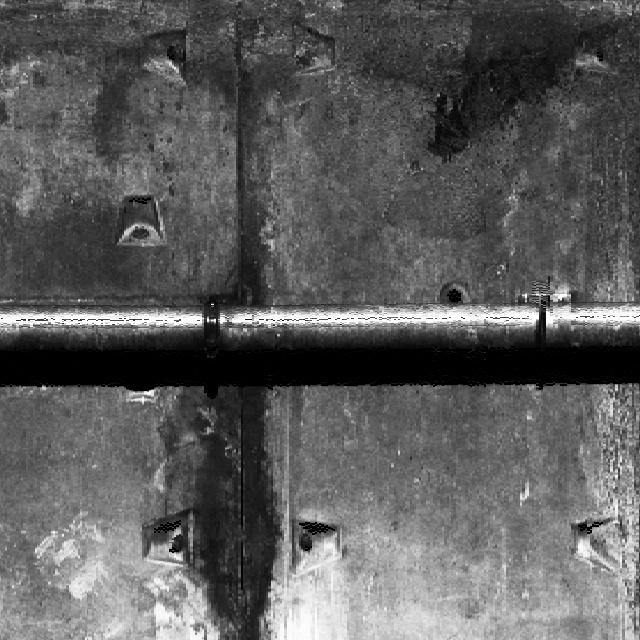leakage: (149, 378, 297, 639), (200, 37, 286, 305)
